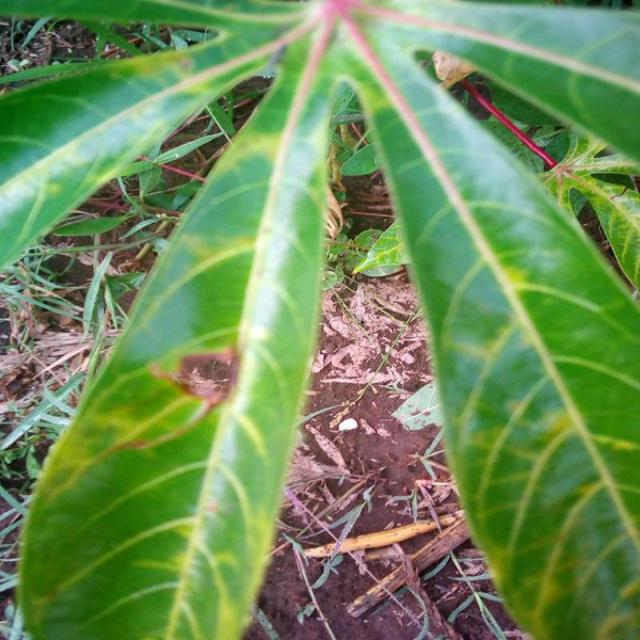cassava leaf: (5, 1, 638, 638), (15, 20, 335, 638), (338, 14, 638, 638)
